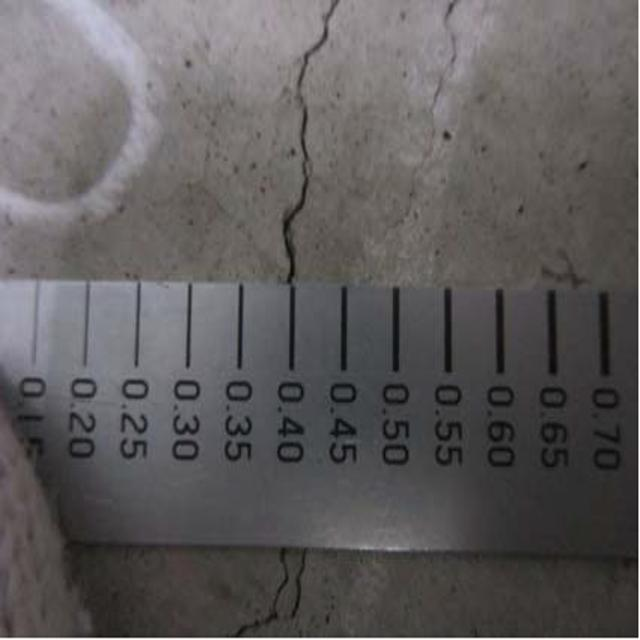crack: (266, 6, 347, 287), (417, 0, 476, 183), (212, 550, 317, 639)
